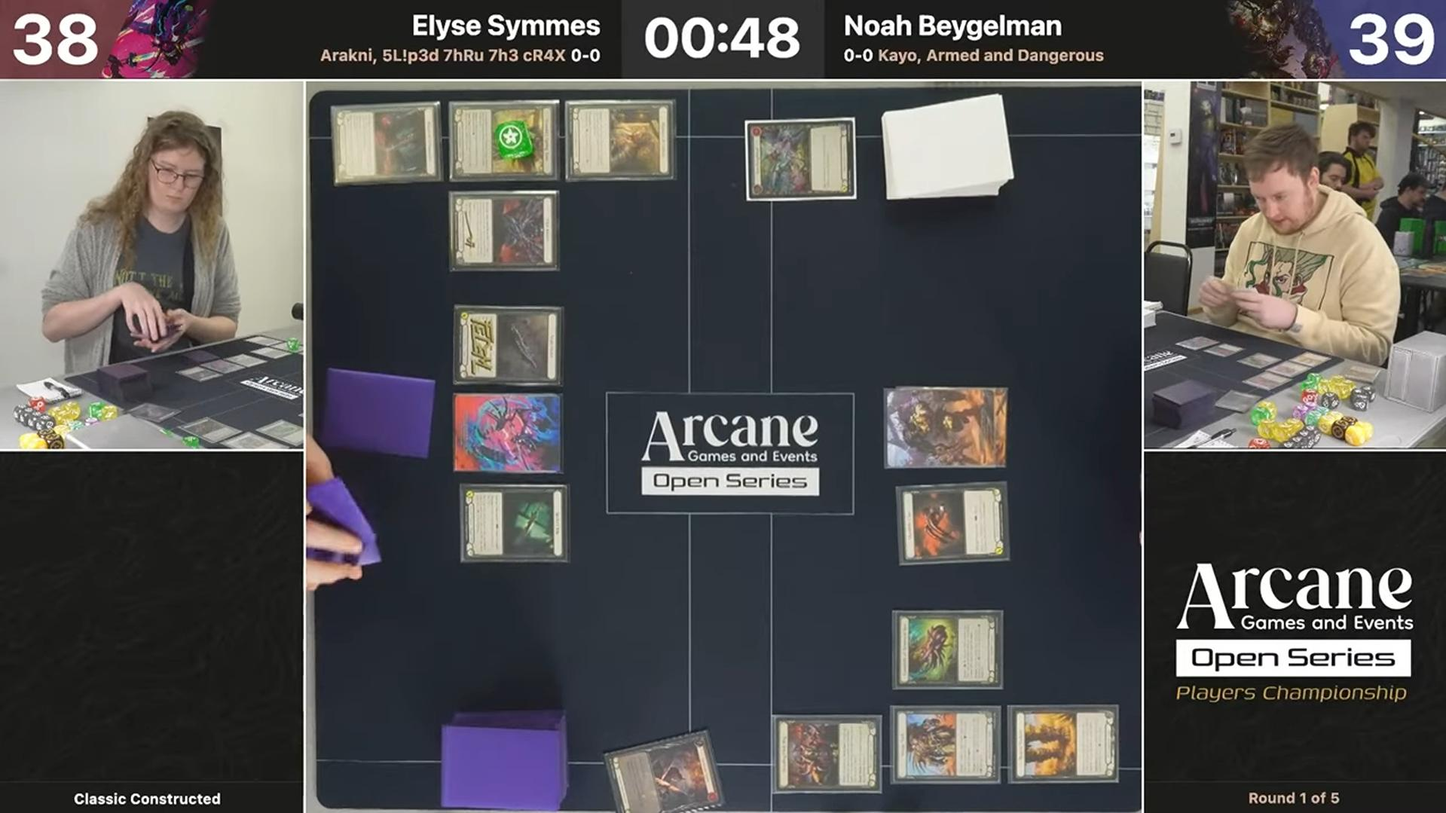Arms: (451, 193, 556, 269)
Arms 2: (894, 613, 1000, 689)
Banish: (326, 728, 432, 804)
Banish 2: (1026, 117, 1131, 193)
Chest: (451, 104, 557, 180)
Chest 2: (893, 716, 998, 792)
Combat Chain 1: (579, 196, 740, 720)
Combat Chain 2: (718, 188, 871, 709)
Graveyard: (610, 735, 716, 811)
Graveyard 2: (752, 106, 857, 182)
Head: (567, 102, 673, 178)
Head 2: (774, 718, 879, 794)
Hero: (455, 395, 561, 471)
Hero 2: (887, 392, 993, 468)
Legs: (331, 105, 437, 181)
Legs 2: (1010, 717, 1116, 793)
Pitch: (468, 629, 574, 705)
Pitch 2: (898, 203, 1004, 279)
Weapon: (456, 308, 561, 384)
Weapon 2: (899, 485, 1004, 561)
Weapon or Off-Hand: (461, 487, 567, 563)
Weapon or Off-Hand 2: (899, 295, 1004, 371)
